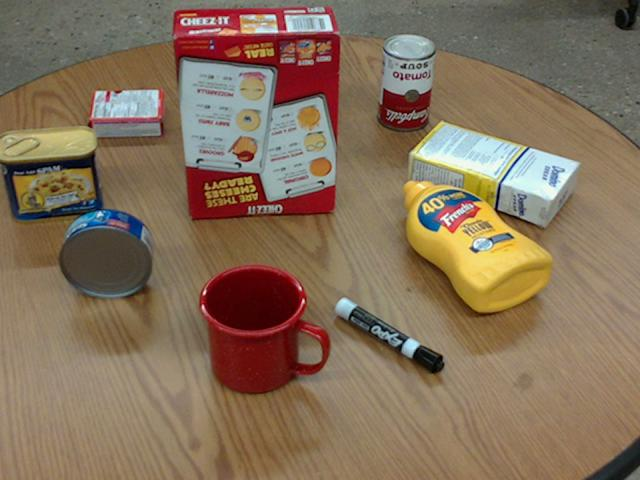cracker_box: (172, 9, 341, 217)
gelatin_box: (88, 89, 163, 138)
large_marker: (333, 297, 444, 372)
master_chef_can: (231, 7, 328, 129)
mug: (198, 263, 329, 394)
mustard_bottle: (401, 180, 551, 311)
potted_meat_can: (0, 126, 102, 224)
sugar_box: (405, 123, 579, 224)
tomato_soup_can: (374, 33, 433, 129)
tuna_fish_can: (58, 208, 153, 298)
